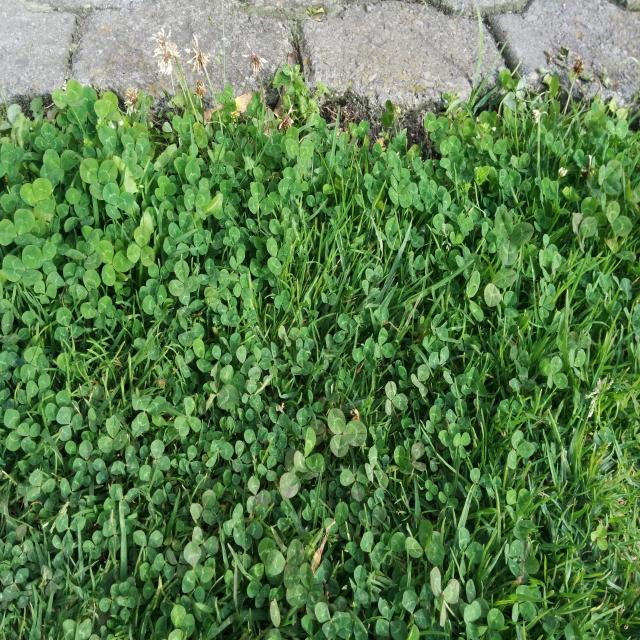Four Leaf Clover: (388, 175, 412, 208)
